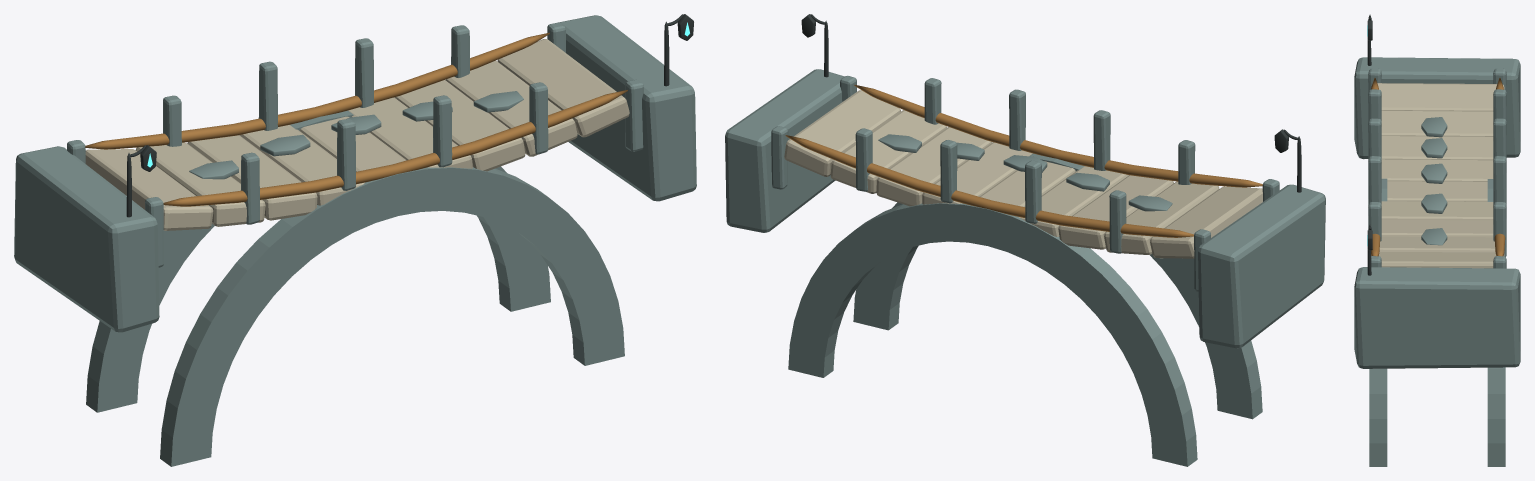
File: bridge.glb
3 views of the same model, side by side, from view 1: azimuth 30°, elevation 25°; view 2: azimuth 150°, elevation 25°; view 3: azimuth 270°, elevation 25° (orthographic). The views are drawn at different scales.
Parts seen in each view (by area): view 1: Bridge load-bearing arch -1, Bridge end pier -1, Bridge end pier 1, Bridge load-bearing arch 1, Bridge voussoir 8, Curved bridge rail -1, Curved bridge rail 1, Bridge voussoir 0, Bridge voussoir 6, Bridge voussoir 7, Bridge voussoir 2, Bridge voussoir 1 (+15 smaller); view 2: Bridge load-bearing arch 1, Bridge end pier -1, Bridge end pier 1, Bridge load-bearing arch -1, Bridge voussoir 8, Curved bridge rail -1, Curved bridge rail 1, Bridge voussoir 0, Bridge voussoir 6, Bridge voussoir 7, Bridge voussoir 1, Bridge voussoir 2 (+12 smaller); view 3: Bridge end pier 1, Bridge end pier -1, Bridge voussoir 0, Bridge voussoir 1, Bridge voussoir 2, Bridge voussoir 3, Bridge load-bearing arch 1, Bridge load-bearing arch -1, Bridge voussoir 4, Bridge voussoir 5, Bridge voussoir 8, Bridge voussoir 6 (+18 smaller).
Boxes of the visible parts, x1,y1,x2,y2 form: Bridge load-bearing arch -1: (160, 167, 624, 466); Bridge end pier -1: (14, 146, 159, 332); Bridge end pier 1: (558, 15, 696, 201); Bridge load-bearing arch 1: (86, 110, 550, 412); Bridge voussoir 8: (497, 39, 629, 137); Curved bridge rail -1: (163, 90, 627, 206); Curved bridge rail 1: (85, 32, 549, 149); Bridge voussoir 0: (85, 149, 213, 230); Bridge voussoir 6: (394, 80, 525, 171); Bridge voussoir 7: (445, 60, 577, 156); Bridge voussoir 2: (187, 135, 317, 220); Bridge voussoir 1: (135, 142, 265, 226); Bridge load-bearing arch 1: (788, 203, 1197, 466); Bridge end pier -1: (1198, 184, 1325, 348); Bridge end pier 1: (725, 69, 844, 232); Bridge load-bearing arch -1: (853, 153, 1262, 419); Bridge voussoir 8: (784, 90, 900, 176); Curved bridge rail -1: (854, 85, 1262, 187); Curved bridge rail 1: (785, 135, 1193, 237); Bridge voussoir 0: (1150, 186, 1262, 258); Bridge voussoir 6: (876, 127, 992, 206); Bridge voussoir 7: (830, 110, 946, 193); Bridge voussoir 1: (1104, 181, 1219, 254); Bridge voussoir 2: (1058, 175, 1173, 249); Bridge end pier 1: (1354, 267, 1520, 368); Bridge end pier -1: (1354, 57, 1520, 159); Bridge voussoir 0: (1371, 83, 1504, 110); Bridge voussoir 1: (1381, 110, 1493, 136); Bridge voussoir 2: (1381, 135, 1493, 159); Bridge voussoir 3: (1381, 159, 1493, 181); Bridge load-bearing arch 1: (1487, 179, 1505, 466); Bridge load-bearing arch -1: (1369, 178, 1387, 466); Bridge voussoir 4: (1387, 181, 1487, 201); Bridge voussoir 5: (1381, 201, 1493, 220); Bridge voussoir 8: (1378, 252, 1504, 268); Bridge voussoir 6: (1381, 220, 1493, 237).
Bounding box in the file's own units: 6.63 × 3.52 × 2.02.
